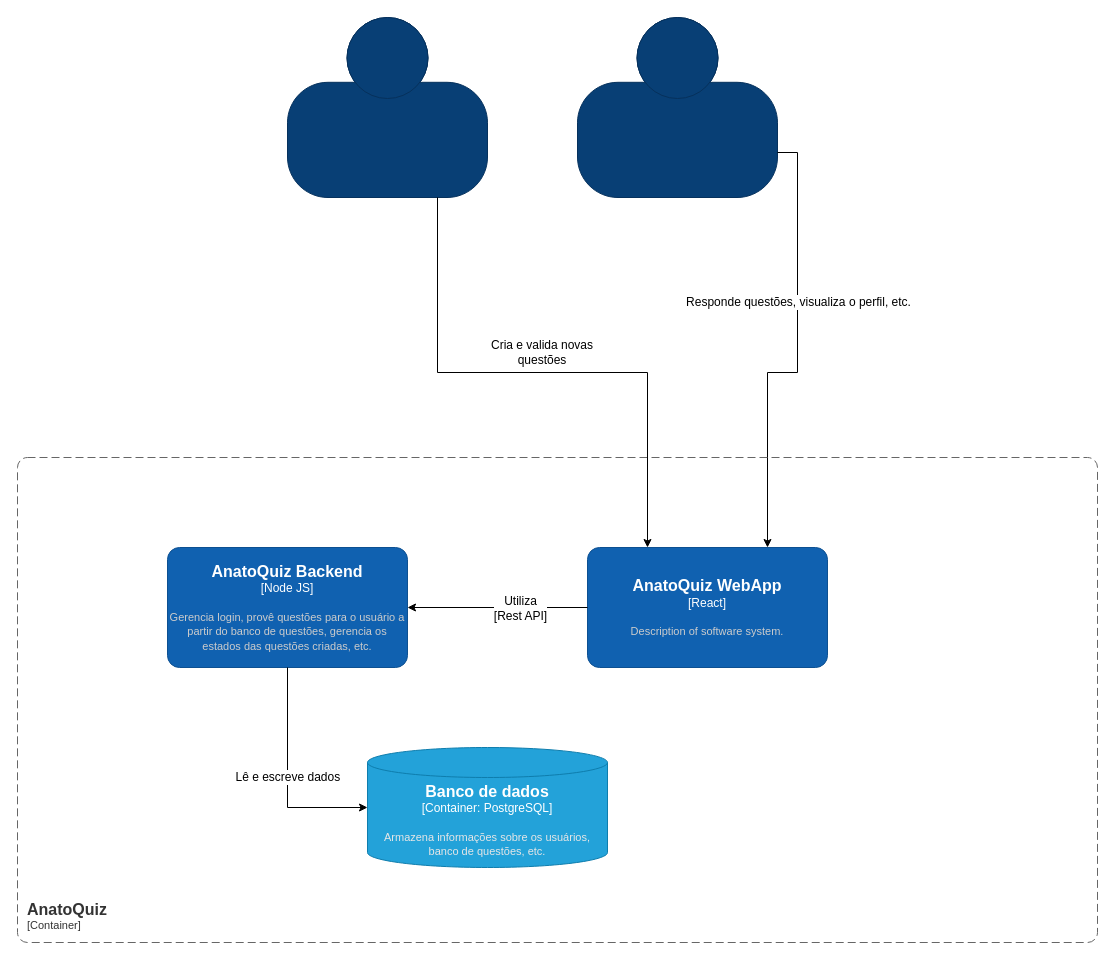
The diagram is 1115 pixels wide and 960 high, and some of its shapes have lost their labels. Here are the shapes that lost their labels. From the top down, the centre of each, then its label:
At (387,107): "Professor [Person] Utiliza a aplicação para poder gerar e validar novas questões".
At (677,107): "Estudante [Person] Utiliza a aplicação para estudar e responder questões".
